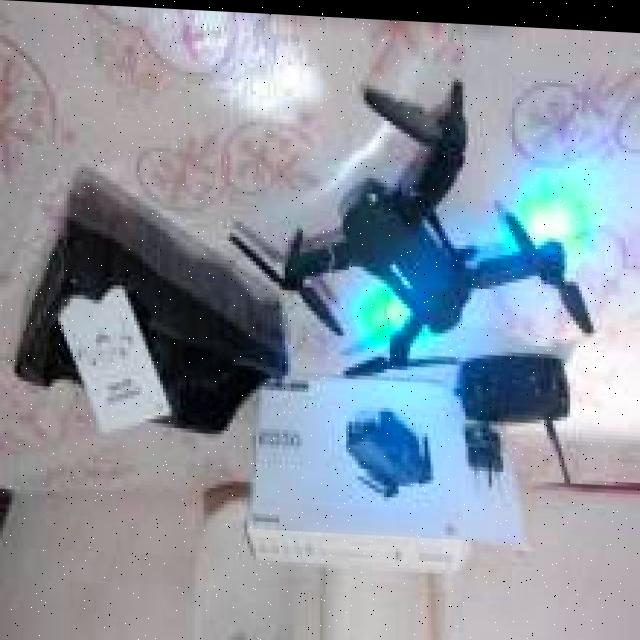drone: (218, 60, 590, 395)
